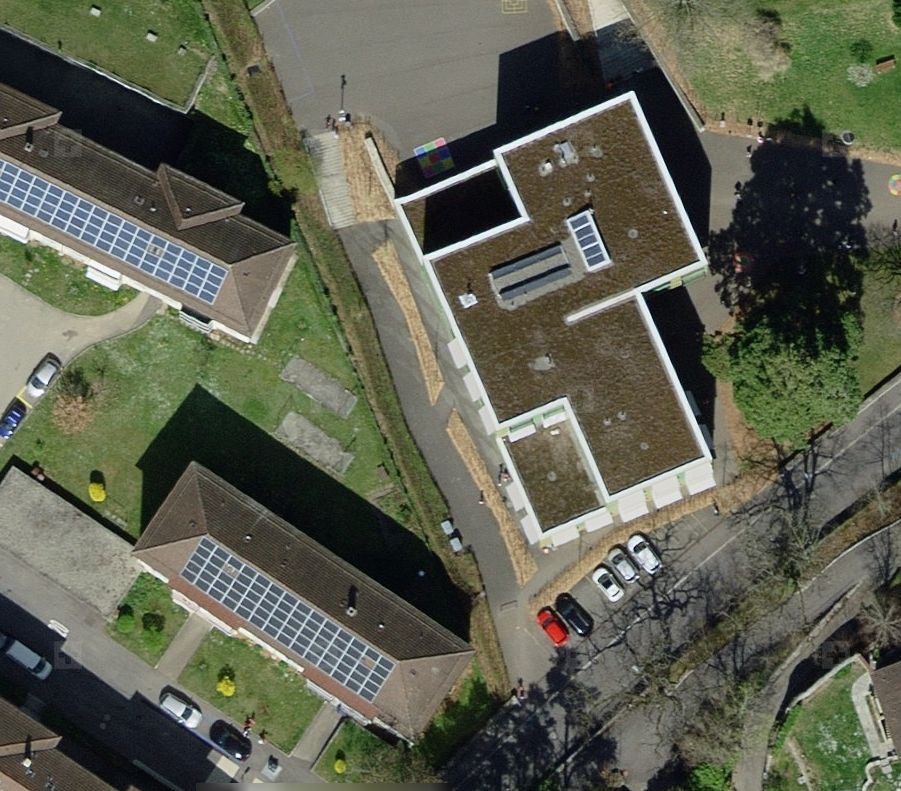solar: (182, 538, 399, 705), (1, 152, 228, 310), (474, 236, 582, 317)
